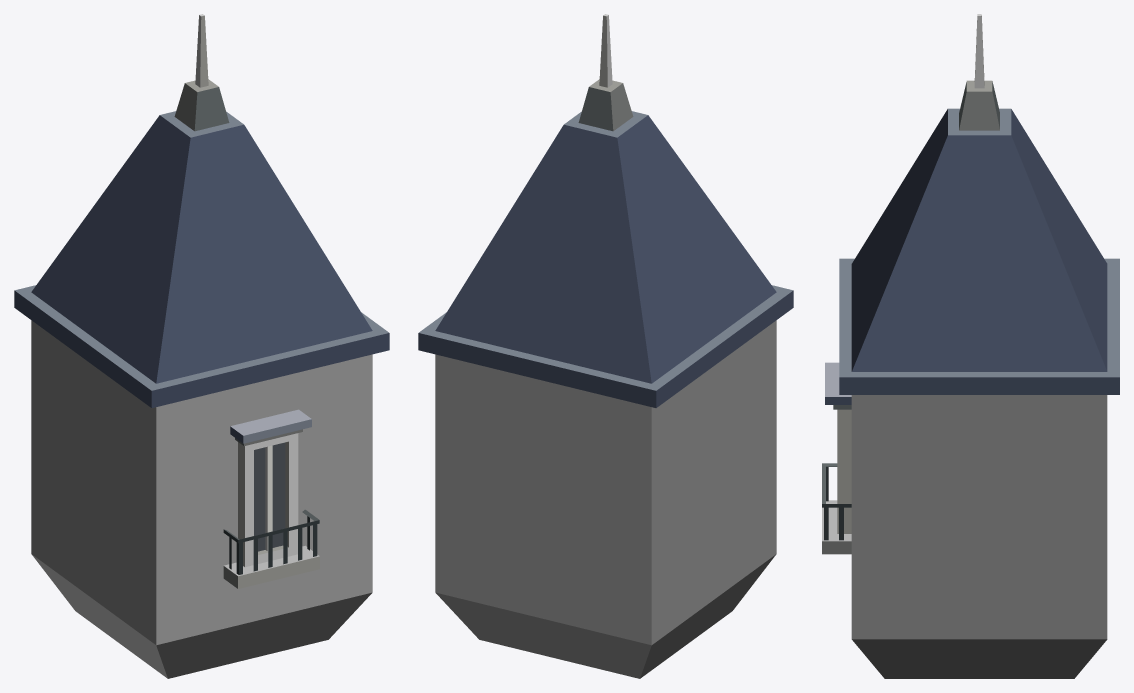
Rendered from TB_CITY_BD_Part_P_B.FBX.
3 views of the same model, side by side, from view 1: azimuth 30°, elevation 25°; view 2: azimuth 150°, elevation 25°; view 3: azimuth 270°, elevation 25° (orthographic). The views are drawn at different scales.
Visible parts, largest first — view 1: TB_CITY_BD_Part_P_B; view 2: TB_CITY_BD_Part_P_B; view 3: TB_CITY_BD_Part_P_B.
Boxes of the visible parts, bbox=[...] form: TB_CITY_BD_Part_P_B: bbox=[14, 14, 389, 678]; TB_CITY_BD_Part_P_B: bbox=[418, 14, 793, 678]; TB_CITY_BD_Part_P_B: bbox=[822, 14, 1119, 678].
Size of the model in its own units: 5.7 by 13.98 by 6.05.
